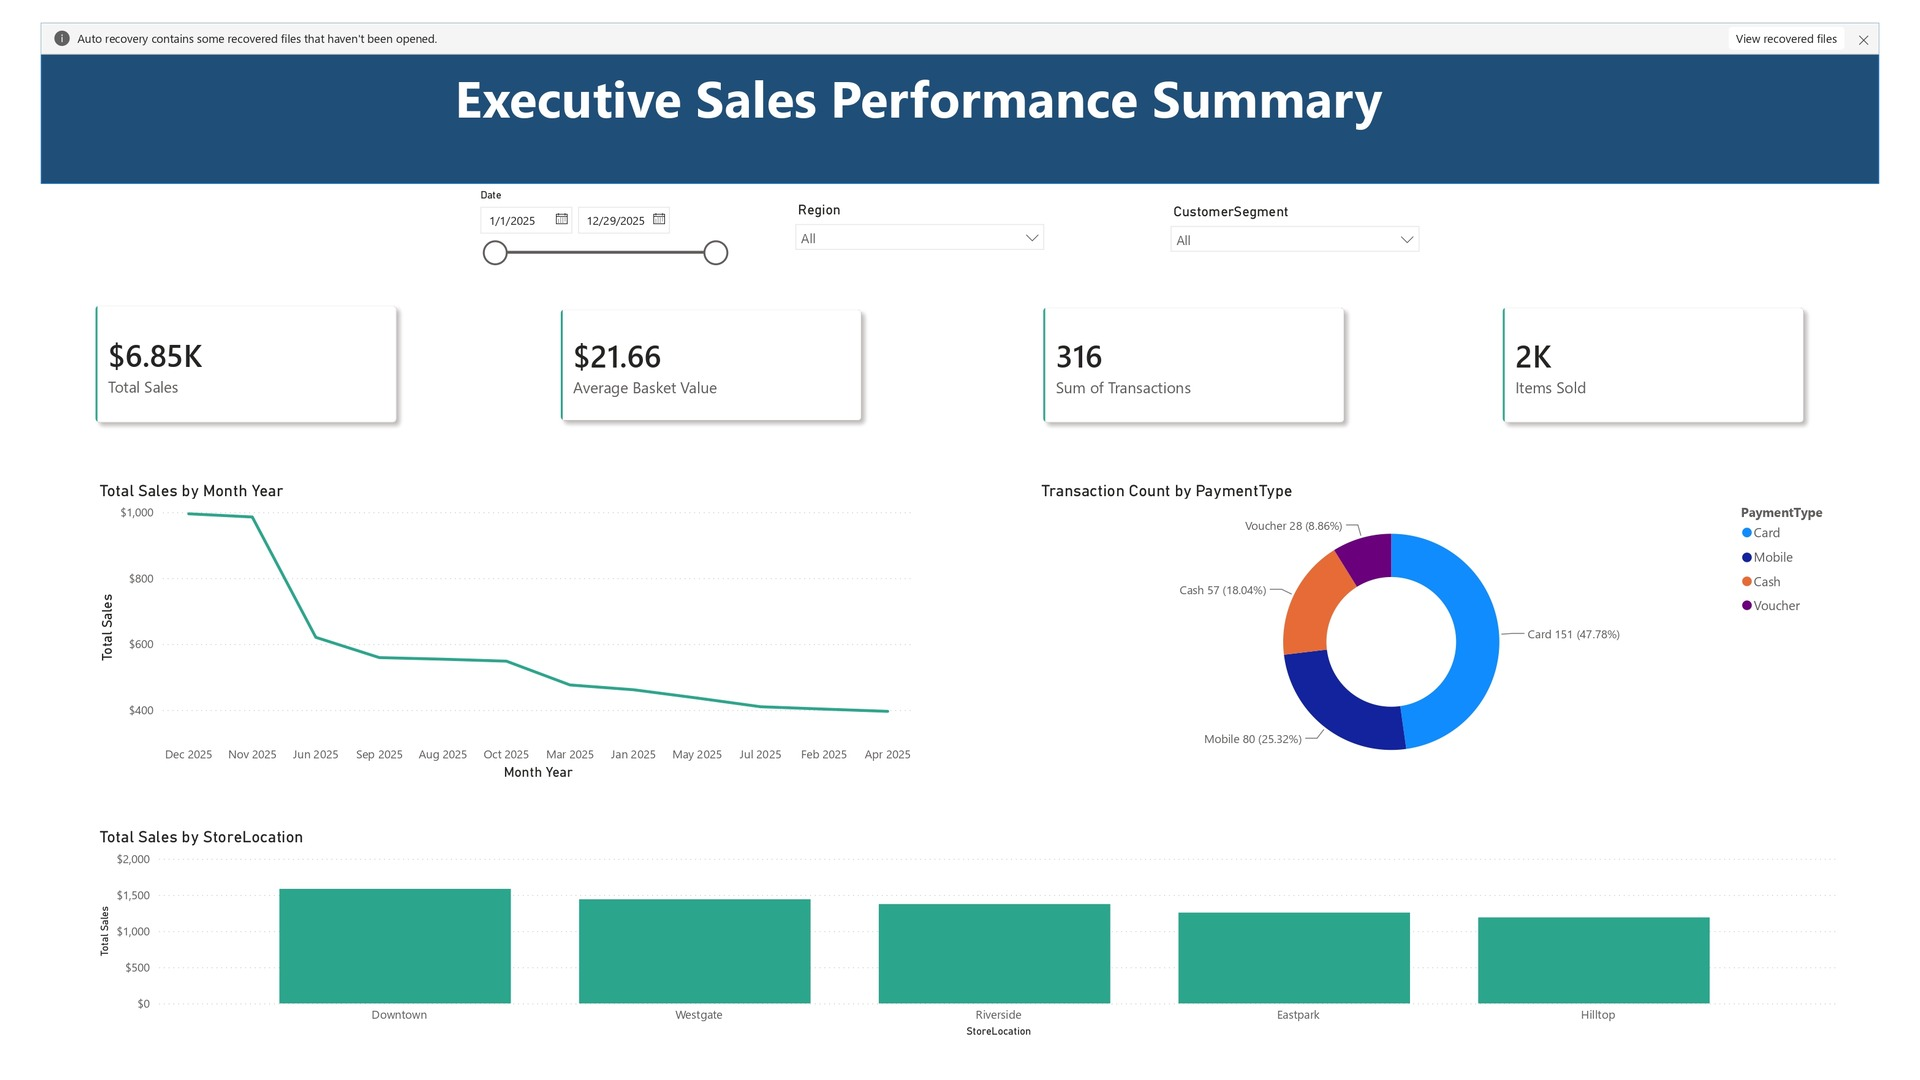

The dashboard page shown, as its layout file describes it:
{"tool":"powerbi","page":{"name":"Sales Overview","canvas":[1920,1080],"ordinal":0},"visuals":[{"type":"slicer","fields":{"Values":["Calendar.Date"]},"box":[446,168,280,104],"z":0},{"type":"slicer","fields":{"Values":["FactTransactions.Region"]},"box":[778,182,280,72],"z":1000},{"type":"slicer","fields":{"Values":["FactTransactions.CustomerSegment"]},"box":[1170,184,280,70],"z":2000},{"type":"cardVisual","fields":{"Data":["FactTransactions.Total Sales"]},"box":[28,266,372,180],"z":3000},{"type":"cardVisual","fields":{"Data":["Sum(Customer Summary.Transactions)"]},"box":[1018,268,372,178],"z":4000},{"type":"cardVisual","fields":{"Data":["FactTransactions.Average Basket Value"]},"box":[514,270,372,174],"z":5000},{"type":"cardVisual","fields":{"Data":["FactTransactions.Items Sold"]},"box":[1498,268,372,178],"z":6000},{"type":"lineChart","fields":{"Category":["Calendar.Month Year"],"Y":["FactTransactions.Total Sales"]},"box":[56,478,862,318],"z":7000},{"type":"clusteredColumnChart","fields":{"Category":["FactTransactions.StoreLocation"],"Y":["FactTransactions.Total Sales"]},"box":[56,840,1826,224],"z":8000},{"type":"donutChart","fields":{"Category":["FactTransactions.PaymentType"],"Y":["FactTransactions.Transaction Count"]},"box":[1040,478,842,318],"z":9000},{"type":"shape","box":[0,0,1920,167.5],"z":10000},{"type":"textbox","box":[176,36,1482,96],"z":12000}]}

Visuals, with their boxes on the page's 1920x1080 design canvas (x1, y1, x2, y2). These are canvas units, not pixel positions in the 1920x1080 screenshot, which may show the page scaled, cropped or inside an application window:
slicer - Calendar.Date: 446,168,726,272
slicer - FactTransactions.Region: 778,182,1058,254
slicer - FactTransactions.CustomerSegment: 1170,184,1450,254
cardVisual - FactTransactions.Total Sales: 28,266,400,446
cardVisual - Sum(Customer Summary.Transactions): 1018,268,1390,446
cardVisual - FactTransactions.Average Basket Value: 514,270,886,444
cardVisual - FactTransactions.Items Sold: 1498,268,1870,446
lineChart - Calendar.Month Year x FactTransactions.Total Sales: 56,478,918,796
clusteredColumnChart - FactTransactions.StoreLocation x FactTransactions.Total Sales: 56,840,1882,1064
donutChart - FactTransactions.PaymentType x FactTransactions.Transaction Count: 1040,478,1882,796
shape: 0,0,1920,168
textbox: 176,36,1658,132
